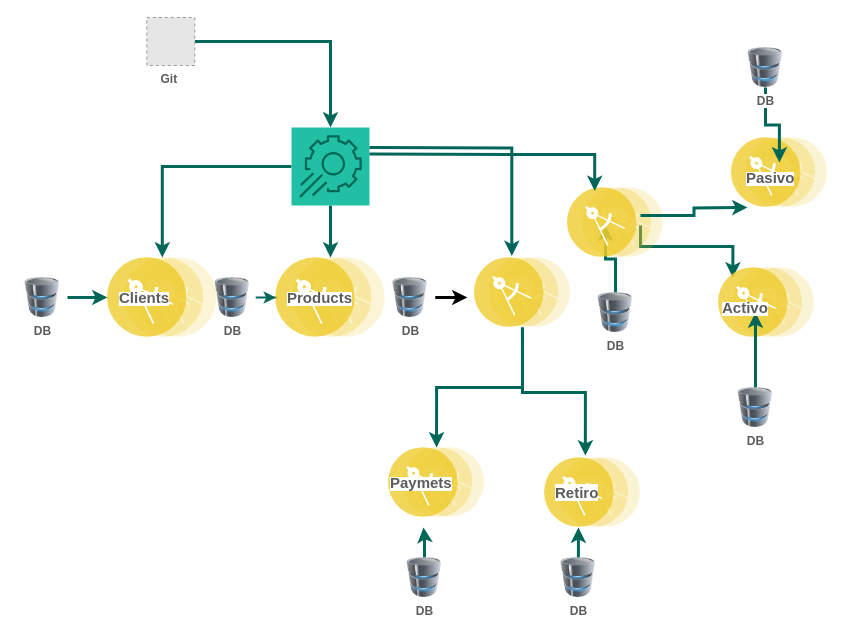
This 844x636 diagram has some shape labels left out. Grey dashed boxes stand in for pictures. The box of each missing label's shape, as (x1, y1, x2, y2) in pixels:
Config Server App: (290, 126, 370, 206)
Sistema: (567, 187, 663, 257)
Transactions: (474, 257, 570, 327)
